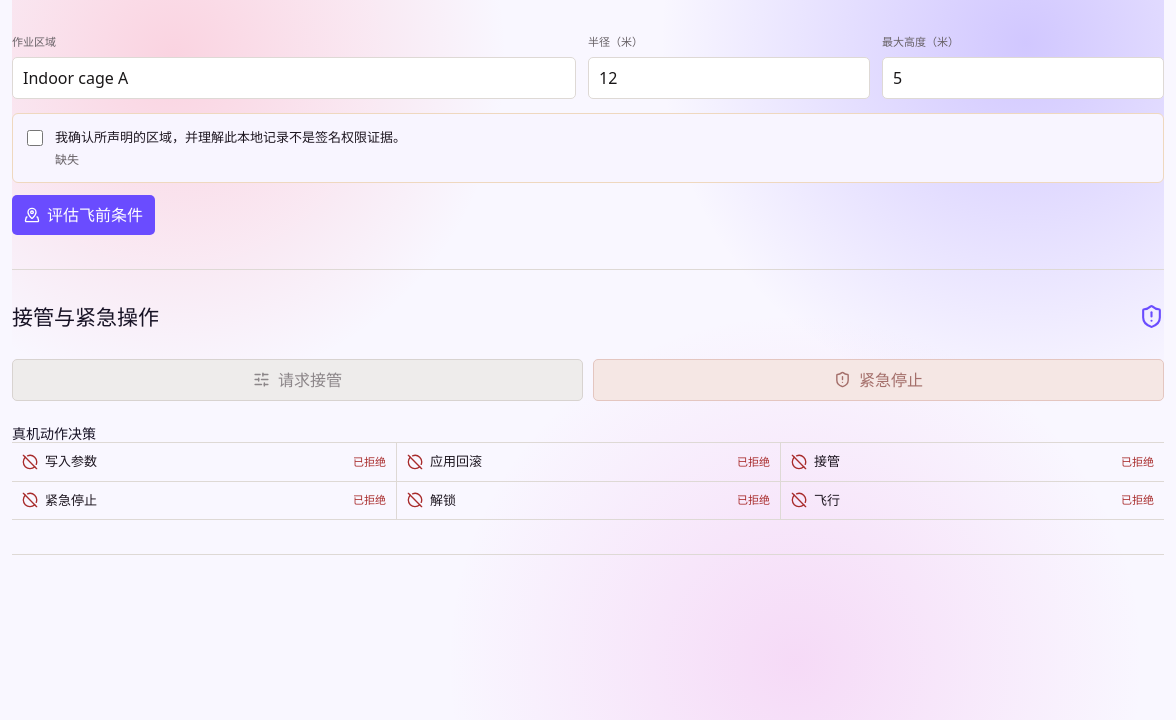
Test: FieldPreflightWorkspace › surfaces a fail-closed invalid-zone rejection
Replace the text in the number field labelled "最大高度（米）" with "0". click: [1023, 78]
box: 882,56 -> 1164,98
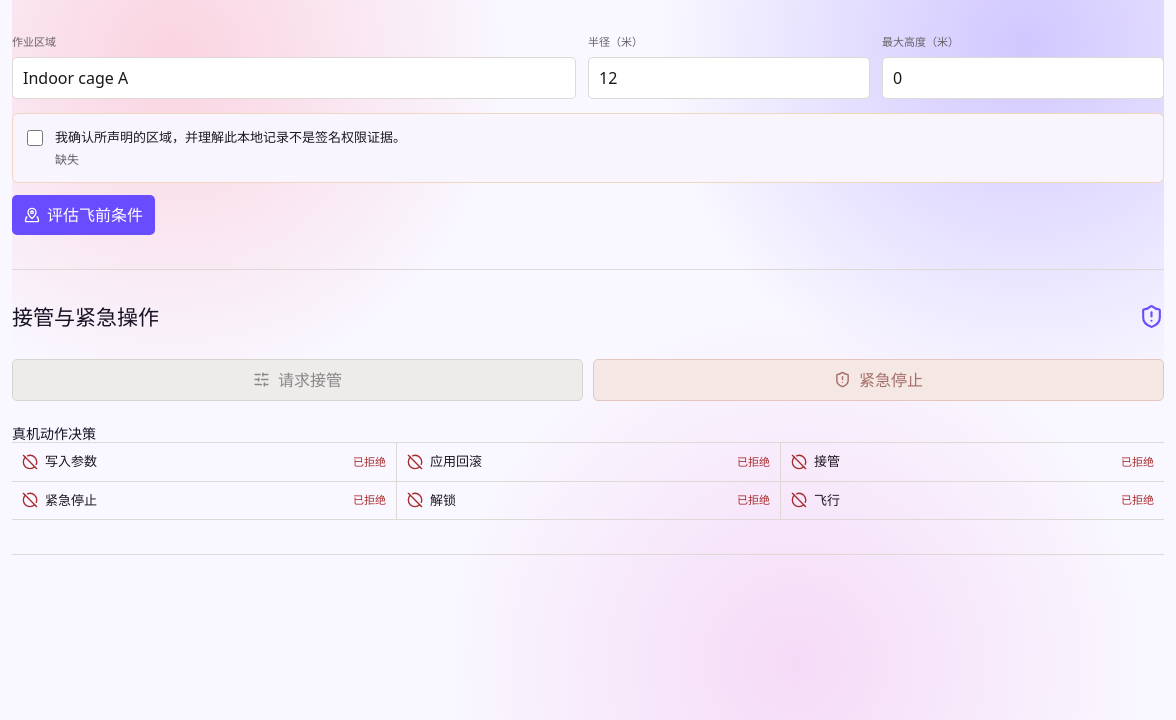
Click the button "评估飞前条件". click: [84, 215]
box: 12,195 -> 155,235
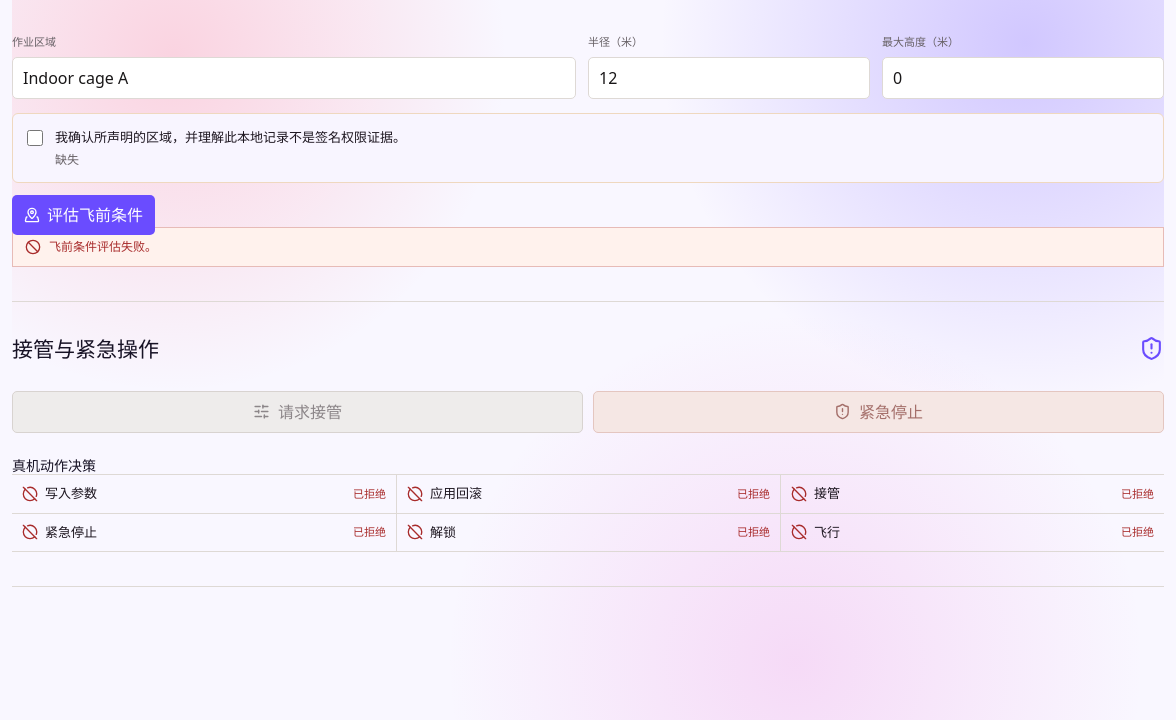
Now the message reads "飞前条件评估失败。", box 49,238 -> 157,255
